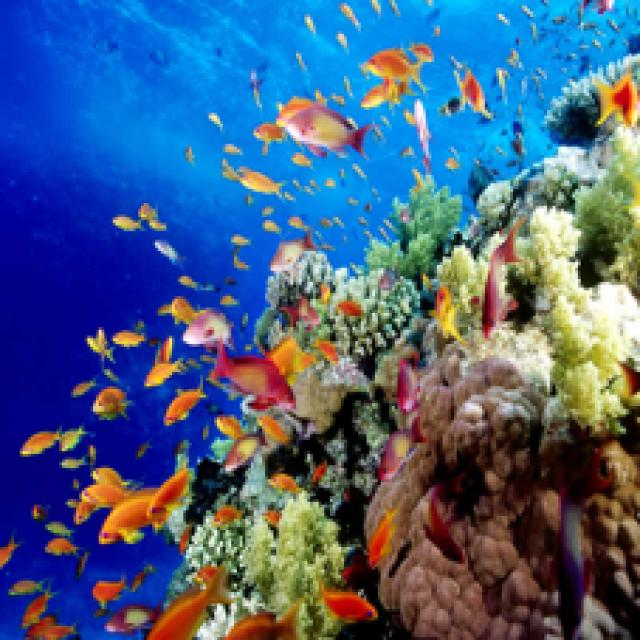Healthy: (368, 356, 559, 638), (246, 494, 342, 638)
